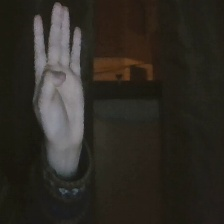B: (29, 2, 89, 150)
